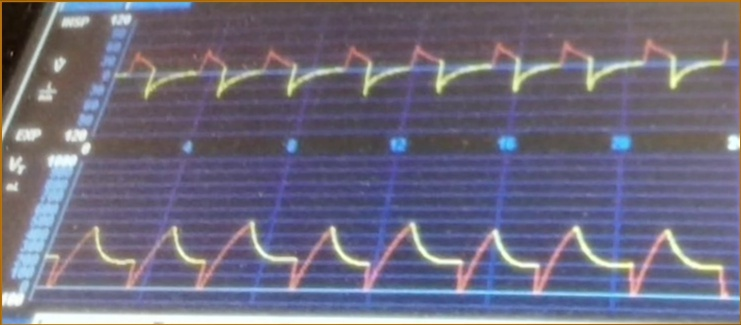Flow: (127, 26, 734, 124)
Leakage Volume: (62, 196, 737, 310)
